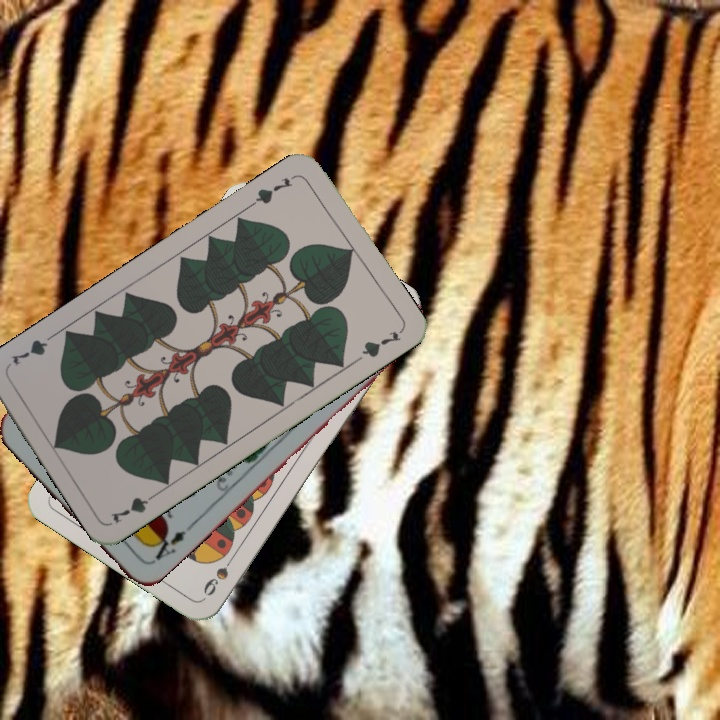EA: (145, 526, 189, 566)
G7: (106, 487, 162, 527), (247, 173, 294, 209)
S9: (199, 548, 240, 599)
